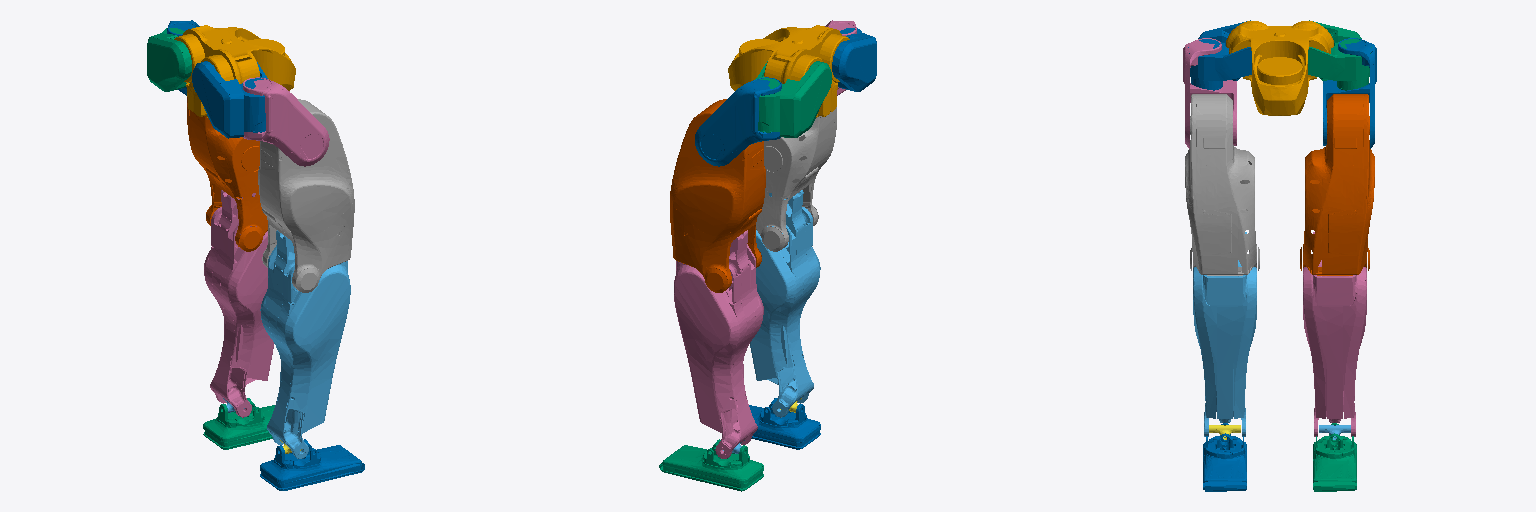
robot.urdf — phantom:
<?xml version = "1.0" ?>
<robot name="phantom">

    <!-- SPINE JOINTS -->
    <joint name="SpineYaw" type="revolute">
        <origin rpy="0 0 0" xyz="0.0 0 0.018"/> <!-- check with CAD -->
        <axis xyz="0 0 1"/>
        <parent link="Pelvis"/>
        <child link="Torso"/>
        <limit effort="150" lower="-0.5235987756" upper="0.5235987756" velocity="9.0"/>
        <dynamics damping="0.05" friction="0.0"/>
    </joint>

    <!-- LEFT LEG JOINTS -->
    <joint name="LeftHipRoll" type="revolute">
        <origin rpy="0 0 0" xyz="-0.162	0.0595	-0.015"/>
        <axis xyz="1 0 0"/>
        <parent link="Pelvis"/>
        <child link="LeftHipRollLink"/>
        <limit effort="150" lower="-0.3490658504 " upper="0.872664626" velocity="9"/>
        <dynamics damping="0.05" friction="0.0"/>
    </joint>
    <joint name="LeftHipYaw" type="revolute">
        <origin rpy="0 0 0" xyz="0.06	0.1	-0.08"/>
        <axis xyz="0 0 1"/>
        <parent link="LeftHipRollLink"/>
        <child link="LeftHipYawLink"/>
        <limit effort="60" lower="-0.3490658504" upper="1.0472" velocity="11"/>
        <dynamics damping="0.05" friction="0.0"/>
    </joint>
    <joint name="LeftHipPitch" type="revolute">
        <origin rpy="0 0 0" xyz="0.1045	-0.0573	-0.0525"/>
        <axis xyz="0 1 0"/>
        <parent link="LeftHipYawLink"/>
        <child link="LEFT_THIGH"/>
        <limit effort="200" lower="-2.61799" upper="0.785398" velocity="8"/>
        <dynamics damping="0.05" friction="0.0"/>
    </joint>
    <joint name="LeftKneePitch" type="revolute">
        <origin rpy="0 0 0" xyz="0	0.018	-0.32"/>
        <axis xyz="0 1 0"/>
        <parent link="LEFT_THIGH"/>
        <child link="LEFT_SHIN"/>
        <limit effort="200" lower="0" upper="2.445206282" velocity="8"/>
        <dynamics damping="0.05" friction="0.0"/>
    </joint>
    <joint name="LeftAnklePitch" type="revolute">
        <origin rpy="0 0 0" xyz="0	0	-0.41"/>
        <axis xyz="0 1 0"/>
        <parent link="LEFT_SHIN"/>
        <child link="LeftAnklePitchLink"/>
        <limit effort="180" lower="-1.0472" upper="0.523599" velocity="8"/>
        <dynamics damping="0.05" friction="0.0"/>
    </joint>
    <joint name="LeftAnkleRoll" type="revolute">
        <origin rpy="0 0 0" xyz="0	0	-0.012"/>
        <axis xyz="1 0 0"/>
        <parent link="LeftAnklePitchLink"/>
        <child link="LeftFoot"/>
        <limit effort="90" lower="-0.436332" upper="0.436332" velocity="8"/>
        <dynamics damping="0.05" friction="0.0"/>
    </joint>

    <!-- RIGHT LEG JOINTS -->
    <joint name="RightHipRoll" type="revolute">
        <origin rpy="0 0 0" xyz="-0.162	-0.0595	-0.015"/>
        <axis xyz="1 0 0"/>
        <parent link="Pelvis"/>
        <child link="RightHipRollLink"/>
        <limit effort="150" lower="-0.872664626" upper="0.3490658504" velocity="9"/>
        <dynamics damping="0.05" friction="0.0"/>
    </joint>
    <joint name="RightHipYaw" type="revolute">
        <origin rpy="0 0 0" xyz="0.06	-0.1	-0.08"/>
        <axis xyz="0 0 1"/>
        <parent link="RightHipRollLink"/>
        <child link="RightHipYawLink"/>
        <limit effort="60" lower="-1.0472" upper="0.3490658504" velocity="11"/>
        <dynamics damping="0.05" friction="0.0"/>
    </joint>
    <joint name="RightHipPitch" type="revolute">
        <origin rpy="0 0 0" xyz="0.1045	0.0573	-0.0525"/>
        <axis xyz="0 1 0"/>
        <parent link="RightHipYawLink"/>
        <child link="RIGHT_THIGH"/>
        <limit effort="200" lower="-2.61799" upper="0.785398" velocity="8"/>
        <dynamics damping="0.05" friction="0.0"/>
    </joint>
    <joint name="RightKneePitch" type="revolute">
        <origin rpy="0 0 0" xyz="0	-0.018	-0.32"/>
        <axis xyz="0 1 0"/>
        <parent link="RIGHT_THIGH"/>
        <child link="RIGHT_SHIN"/>
        <limit effort="200" lower="0" upper="2.445206282" velocity="8"/>
        <dynamics damping="0.05" friction="0.0"/>
    </joint>
    <joint name="RightAnklePitch" type="revolute">
        <origin rpy="0 0 0" xyz="0	0	-0.41"/>
        <axis xyz="0 1 0"/>
        <parent link="RIGHT_SHIN"/>
        <child link="RightAnklePitchLink"/>
        <limit effort="180" lower="-1.0472" upper="0.523599" velocity="8"/>
        <dynamics damping="0.05" friction="0.0"/>
    </joint>
    <joint name="RightAnkleRoll" type="revolute">
        <origin rpy="0 0 0" xyz="0	0	-0.012"/>
        <axis xyz="1 0 0"/>
        <parent link="RightAnklePitchLink"/>
        <child link="RightFoot"/>
        <limit effort="90" lower="-0.436332" upper="0.436332" velocity="8"/>
        <dynamics damping="0.05" friction="0.0"/>
    </joint>


    <!-- LINKS -->
    <link name="Pelvis">
        <inertial>
            <mass value="9.50083635"/>
            <origin rpy="0 0 0" xyz="-0.08354287 0.00005291 -0.03484828"/>
            <inertia ixx="0.03428688" ixy="0.00001151" ixz="0.00015935" iyy="0.05178848" iyz="0.00004514" izz="0.06001929"/>
        </inertial>
        <visual>
            <geometry>
                <mesh filename="package://phantom_description/meshes/legs/Pelvis.obj"/>
            </geometry>
            <origin rpy="0.0 0.0 0.0" xyz="0.0 0.0 0.0"/>
        </visual>
    </link>
    <!-- pelvis_stim_imu -->
    <joint name="PelvisIMUFixedJoint" type="fixed">
        <parent link="Pelvis"/>
        <child link="PelvisIMULink"/>
        <origin xyz="-0.08687724 0.01225028 -0.08051472" rpy="0.0 0.0 1.570796"/>
    </joint>

    <link name="PelvisIMULink">
        <inertial>
            <mass value="0.0"/>
            <origin xyz="0 0 0" rpy="0 0 0"/>
            <inertia ixx="0.0" ixy="0.0" ixz="0.0" iyy="0.0" iyz="0.0" izz="0.0"/>
        </inertial>
    </link>

    <gazebo reference="PelvisIMULink">
        <sensor name="PelvisIMU" type="imu">
            <always_on>1</always_on>
            <update_rate>1000.0</update_rate>
            <imu>
                <noise>
                    <type>gaussian</type>
                    <rate>
                        <mean>0.0</mean>
                        <stddev>2e-4</stddev>
                        <bias_mean>0.0000075</bias_mean>
                        <bias_stddev>0.0000008</bias_stddev>
                    </rate>
                    <accel>
                        <mean>0.0</mean>
                        <stddev>1.7e-2</stddev>
                        <bias_mean>0.1</bias_mean>
                        <bias_stddev>0.001</bias_stddev>
                    </accel>
                </noise>
            </imu>
        </sensor>
    </gazebo>
    <!-- end pelvis imu -->

    <!-- LEFT LEG LINKS -->
    <link name="LeftHipRollLink">
        <inertial>
            <mass value="2.32977961"/>
            <origin rpy="0 0 0" xyz="0.04350911	0.08708606 -0.03525761"/>
            <inertia ixx="0.00467452" ixy="-0.00058626" ixz="0.00013124" iyy="0.00516613" iyz="0.00048141" izz="0.00553124"/>
        </inertial>
        <visual>
            <geometry>
                <mesh filename="package://phantom_description/meshes/legs/LeftHipRollLink.obj"/>
            </geometry>
            <origin rpy="0.0 0.0 0.0" xyz="0.0 0.0 0.0"/>
        </visual>
    </link>

    <!-- LeftHipRollIMU-->
	<link name="LeftHipRollIMULink">
		<inertial>
			<mass value="0"/>
			<origin rpy="0 0 0" xyz="0 0 0"/>
			<inertia ixx="0.0" ixy="0.0" ixz="0.0" iyy="0.0" iyz="0.0" izz="0.0"/>
		</inertial>
	</link>
	<joint name="LeftHipRollIMUJoint" type="fixed">
		<origin rpy="-1.570796 0 1.570796" xyz="-0.01922309 0.10145013 -0.01488788"/>
		<axis xyz="0 0 1"/>
		<parent link="LeftHipRollLink"/>
		<child link="LeftHipRollIMULink"/>
	</joint>
	<gazebo reference="LeftHipRollIMUJoint">
		<sensor name="LeftHipRollIMU" type="imu">
			<always_on>true</always_on>
			<imu>
				<noise>
					<type>gaussian</type>
					<rate>
						<mean>0</mean>
						<stddev>0.0002</stddev>
						<bias_mean>7.5e-06</bias_mean>
						<bias_stddev>8e-07</bias_stddev>
					</rate>
					<accel>
						<mean>0</mean>
						<stddev>0.017</stddev>
						<bias_mean>0.1</bias_mean>
						<bias_stddev>0.001</bias_stddev>
					</accel>
				</noise>
			</imu>
		</sensor>
	</gazebo>


    <link name="LeftHipYawLink">
        <inertial>
            <mass value="0.77281362"/>
            <origin rpy="0 0 0" xyz="0.04549595	-0.00525571	-0.00937454"/>
            <inertia ixx="0.00317639" ixy="0.00005807" ixz="0.00080598" iyy="0.00345182" iyz="0.00047441" izz="0.00313245"/>
        </inertial>
        <visual>
            <geometry>
                <mesh filename="package://phantom_description/meshes/legs/LeftHipYawLink.obj"/>
            </geometry>
            <origin rpy="0.0 0.0 0.0" xyz="0 0 0"/>
        </visual>
    </link>
    <link name="LEFT_THIGH">
        <inertial>
            <mass value="7.75"/><!-- CAD Mass 6.31087157 (Hacked April 1 2025 to match IRL Scale of whole robot) -->
            <origin rpy="0 0 0" xyz="0.01417302	0.03268781	-0.10548314"/>
            <inertia ixx="0.09264028" ixy="0.00038532" ixz="0.00916409" iyy="0.09733033" iyz="-0.0043516" izz="0.02803877"/>
        </inertial>
        <visual>
            <geometry>
                <mesh filename="package://phantom_description/meshes/legs/LeftThigh.obj"/>
            </geometry>
            <origin rpy="0.0 0.0 0.0" xyz="0 0 0"/>
        </visual>
    </link>
    <link name="LEFT_SHIN">
        <inertial>
            <mass value="5.5"/><!-- CAD Mass 6.31087157 (Hacked April 1 2025 to match IRL Scale of whole robot) -->
            <origin rpy="0 0 0" xyz="0.03807965	-0.00108105	-0.12410027"/>
            <inertia ixx="0.08823148" ixy="-0.00054706" ixz="-0.00634132" iyy="0.09163264" iyz="0.00002714" izz="0.01569601"/>
        </inertial>
        <visual>
            <geometry>
                <mesh filename="package://phantom_description/meshes/legs/LeftShin.obj"/>
            </geometry>
            <origin rpy="0.0 0.0 0.0" xyz="0 0 0"/>
        </visual>
    </link>

    <!-- LeftThighIMU-->
	<link name="LeftThighIMULink">
		<inertial>
			<mass value="0"/>
			<origin rpy="0 0 0" xyz="0 0 0"/>
			<inertia ixx="0.0" ixy="0.0" ixz="0.0" iyy="0.0" iyz="0.0" izz="0.0"/>
		</inertial>
	</link>
	<joint name="LeftThighIMUJoint" type="fixed">
		<origin rpy="1.6947717585 0 1.570796" xyz="0.10004 0.03746 -0.21194"/>
		<axis xyz="0 0 1"/>
		<parent link="LEFT_THIGH"/>
		<child link="LeftThighIMULink"/>
	</joint>
	<gazebo reference="LeftThighIMULink">
		<sensor name="LeftThighIMU" type="imu">
			<always_on>true</always_on>
			<imu>
				<noise>
					<type>gaussian</type>
					<rate>
						<mean>0</mean>
						<stddev>0.0002</stddev>
						<bias_mean>7.5e-06</bias_mean>
						<bias_stddev>8e-07</bias_stddev>
					</rate>
					<accel>
						<mean>0</mean>
						<stddev>0.017</stddev>
						<bias_mean>0.1</bias_mean>
						<bias_stddev>0.001</bias_stddev>
					</accel>
				</noise>
			</imu>
		</sensor>
	</gazebo>

    <!-- LeftShinIMU-->
	<link name="LeftShinIMULink">
		<inertial>
			<mass value="0"/>
			<origin rpy="0 0 0" xyz="0 0 0"/>
			<inertia ixx="0.0" ixy="0.0" ixz="0.0" iyy="0.0" iyz="0.0" izz="0.0"/>
		</inertial>
	</link>
	<joint name="LeftShinIMUJoint" type="fixed">
		<origin rpy="1.403695170631842 0 -1.570796" xyz="0.05655120 0.00084826 -0.15664831"/>
		<axis xyz="0 0 1"/>
		<parent link="LEFT_SHIN"/>
		<child link="LeftShinIMULink"/>
	</joint>
	<gazebo reference="LeftShinIMULink">
		<sensor name="LeftShinIMU" type="imu">
			<always_on>true</always_on>
			<imu>
				<noise>
					<type>gaussian</type>
					<rate>
						<mean>0</mean>
						<stddev>0.0002</stddev>
						<bias_mean>7.5e-06</bias_mean>
						<bias_stddev>8e-07</bias_stddev>
					</rate>
					<accel>
						<mean>0</mean>
						<stddev>0.017</stddev>
						<bias_mean>0.1</bias_mean>
						<bias_stddev>0.001</bias_stddev>
					</accel>
				</noise>
			</imu>
		</sensor>
	</gazebo>


    <link name="LeftAnklePitchLink">
        <inertial>
            <mass value="0.05045632"/>
            <origin rpy="0 0 0" xyz="2.94E-07	2.22E-07	-0.00462997"/>
            <inertia ixx="0.00001733" ixy="2.12E-10" ixz="-1.26E-10" iyy="0.00000714" iyz="-2.02E-11" izz="0.00001851"/>
        </inertial>
        <visual>
            <geometry>
                <mesh filename="package://phantom_description/meshes/legs/AnklePitchLink.obj"/>
            </geometry>
            <origin rpy="0.0 0.0 0.0" xyz="0 0 0"/>
        </visual>
    </link>
    <link name="LeftFoot">
        <inertial>
            <mass value="1.28288609"/>
            <origin rpy="0 0 0" xyz="0.03793372	-0.00000219	-0.0443663"/>
            <inertia ixx="0.00131328" ixy="0.00001057" ixz="0.00036242" iyy="0.00385286" iyz="-0.0000069" izz="0.00406301"/>
        </inertial>
        <visual>
            <geometry>
                <mesh filename="package://phantom_description/meshes/legs/Foot.obj"/>
            </geometry>
            <origin rpy="0.0 0.0 0.0" xyz="0 0 0"/>
        </visual>
    </link>

    <!-- LeftFootIMU-->
	<link name="LeftFootIMULink">
		<inertial>
			<mass value="0"/>
			<origin rpy="0 0 0" xyz="0 0 0"/>
			<inertia ixx="0.0" ixy="0.0" ixz="0.0" iyy="0.0" iyz="0.0" izz="0.0"/>
		</inertial>
	</link>
	<joint name="LeftFootIMUJoint" type="fixed">
		<origin rpy="0 0 1.570796" xyz="-0.03575526 0.01180178 -0.04979705"/>
		<axis xyz="0 0 1"/>
		<parent link="LeftFoot"/>
		<child link="LeftFootIMULink"/>
	</joint>
	<gazebo reference="LeftFootIMULink">
		<sensor name="LeftFootIMU" type="imu">
			<always_on>true</always_on>
			<imu>
				<noise>
					<type>gaussian</type>
					<rate>
						<mean>0</mean>
						<stddev>0.0002</stddev>
						<bias_mean>7.5e-06</bias_mean>
						<bias_stddev>8e-07</bias_stddev>
					</rate>
					<accel>
						<mean>0</mean>
						<stddev>0.017</stddev>
						<bias_mean>0.1</bias_mean>
						<bias_stddev>0.001</bias_stddev>
					</accel>
				</noise>
			</imu>
		</sensor>
	</gazebo>


    <!-- RIGHT LEG LINKS -->
    <link name="RightHipRollLink">
        <inertial>
            <mass value="2.32977248"/>
            <origin rpy="0 0 0" xyz="0.04351957	-0.08688935	-0.03525357"/>
            <inertia ixx="0.00467576" ixy="0.00061004" ixz="0.00013038" iyy="0.00516385" iyz="-0.00047381" izz="0.00552901"/>
        </inertial>
        <visual>
            <geometry>
                <mesh filename="package://phantom_description/meshes/legs/RightHipRollLink.obj"/>
            </geometry>
            <origin rpy="0.0 0.0 0.0" xyz="0.0 0.0 0.0"/>
        </visual>
    </link>

    <!-- RightHipRollIMU-->
	<link name="RightHipRollIMULink">
		<inertial>
			<mass value="0"/>
			<origin rpy="0 0 0" xyz="0 0 0"/>
			<inertia ixx="0.0" ixy="0.0" ixz="0.0" iyy="0.0" iyz="0.0" izz="0.0"/>
		</inertial>
	</link>
	<joint name="RightHipRollIMUJoint" type="fixed">
		<origin rpy="-1.570796 0 1.570796" xyz="-0.01922309 -0.07694987 -0.01488788"/>
		<axis xyz="0 0 1"/>
		<parent link="RightHipRollLink"/>
		<child link="RightHipRollIMULink"/>
	</joint>
	<gazebo reference="RightHipRollIMUJoint">
		<sensor name="RightHipRollIMU" type="imu">
			<always_on>true</always_on>
			<imu>
				<noise>
					<type>gaussian</type>
					<rate>
						<mean>0</mean>
						<stddev>0.0002</stddev>
						<bias_mean>7.5e-06</bias_mean>
						<bias_stddev>8e-07</bias_stddev>
					</rate>
					<accel>
						<mean>0</mean>
						<stddev>0.017</stddev>
						<bias_mean>0.1</bias_mean>
						<bias_stddev>0.001</bias_stddev>
					</accel>
				</noise>
			</imu>
		</sensor>
	</gazebo>

    <link name="RightHipYawLink">
        <inertial>
            <mass value="0.77281055"/>
            <origin rpy="0 0 0" xyz="0.04549274	0.00525784	-0.00937505"/>
            <inertia ixx="0.00317639" ixy="-0.00005765" ixz="0.00080587" iyy="0.00345166" iyz="-0.00047466" izz="0.00313223"/>
        </inertial>
        <visual>
            <geometry>
                <mesh filename="package://phantom_description/meshes/legs/RightHipYawLink.obj"/>
            </geometry>
            <origin rpy="0.0 0.0 0.0" xyz="0 0 0"/>
        </visual>
    </link>
    <link name="RIGHT_THIGH">
        <inertial>
            <mass value="7.75"/><!-- CAD Mass 6.31087157 (Hacked April 1 2025 to match IRL Scale of whole robot) -->
            <origin rpy="0 0 0" xyz="0.01411846	-0.03282392	-0.10542795"/>
            <inertia ixx="0.09273162" ixy="-0.00026689" ixz="0.00921343" iyy="0.09738701" iyz="0.00422485" izz="0.02802165"/>
        </inertial>
        <visual>
            <geometry>
                <mesh filename="package://phantom_description/meshes/legs/RightThigh.obj"/>
            </geometry>
            <origin rpy="0.0 0.0 0.0" xyz="0 0 0"/>
        </visual>
    </link>

    <!-- RightThighIMU-->
	<link name="RightThighIMULink">
		<inertial>
			<mass value="0"/>
			<origin rpy="0 0 0" xyz="0 0 0"/>
			<inertia ixx="0.0" ixy="0.0" ixz="0.0" iyy="0.0" iyz="0.0" izz="0.0"/>
		</inertial>
	</link>
	<joint name="RightThighIMUJoint" type="fixed">
		<origin rpy="1.6947717585 0 1.570796" xyz="0.10003618 -0.033541826 -0.21194191"/>
		<axis xyz="0 0 1"/>
		<parent link="RIGHT_THIGH"/>
		<child link="RightThighIMULink"/>
	</joint>
	<gazebo reference="RightThighIMULink">
		<sensor name="RightThighIMU" type="imu">
			<always_on>true</always_on>
			<imu>
				<noise>
					<type>gaussian</type>
					<rate>
						<mean>0</mean>
						<stddev>0.0002</stddev>
						<bias_mean>7.5e-06</bias_mean>
						<bias_stddev>8e-07</bias_stddev>
					</rate>
					<accel>
						<mean>0</mean>
						<stddev>0.017</stddev>
						<bias_mean>0.1</bias_mean>
						<bias_stddev>0.001</bias_stddev>
					</accel>
				</noise>
			</imu>
		</sensor>
	</gazebo>

    <link name="RIGHT_SHIN">
        <inertial>
            <mass value="5.5"/><!-- CAD Mass 6.31087157 (Hacked April 1 2025 to match IRL Scale of whole robot) -->
            <origin rpy="0 0 0" xyz="0.03807648	0.00113375	-0.12408765"/>
            <inertia ixx="0.08705693" ixy="0.00057277" ixz="-0.00674654" iyy="0.090231" iyz="0.00028332" izz="0.01554032"/>
        </inertial>
        <visual>
            <geometry>
                <mesh filename="package://phantom_description/meshes/legs/RightShin.obj"/>
            </geometry>
            <origin rpy="0.0 0.0 0.0" xyz="0 0 0"/>
        </visual>
    </link>

    <!-- RightShinIMU-->
	<link name="RightShinIMULink">
		<inertial>
			<mass value="0"/>
			<origin rpy="0 0 0" xyz="0 0 0"/>
			<inertia ixx="0.0" ixy="0.0" ixz="0.0" iyy="0.0" iyz="0.0" izz="0.0"/>
		</inertial>
	</link>
	<joint name="RightShinIMUJoint" type="fixed">
		<origin rpy="1.403695170631842 0 -1.570796" xyz="0.05673025 -0.00875818 -0.15674961"/>
		<axis xyz="0 0 1"/>
		<parent link="RIGHT_SHIN"/>
		<child link="RightShinIMULink"/>
	</joint>
	<gazebo reference="RightShinIMULink">
		<sensor name="RightShinIMU" type="imu">
			<always_on>true</always_on>
			<imu>
				<noise>
					<type>gaussian</type>
					<rate>
						<mean>0</mean>
						<stddev>0.0002</stddev>
						<bias_mean>7.5e-06</bias_mean>
						<bias_stddev>8e-07</bias_stddev>
					</rate>
					<accel>
						<mean>0</mean>
						<stddev>0.017</stddev>
						<bias_mean>0.1</bias_mean>
						<bias_stddev>0.001</bias_stddev>
					</accel>
				</noise>
			</imu>
		</sensor>
	</gazebo>


    <link name="RightAnklePitchLink">
        <inertial>
            <mass value="0.05045632"/>
            <origin rpy="0 0 0" xyz="2.94E-07	2.22E-07	-0.00462997"/>
            <inertia ixx="0.00001733" ixy="2.12E-10" ixz="-1.26E-10" iyy="0.00000714" iyz="-2.02E-11" izz="0.00001851"/>
        </inertial>
        <visual>
            <geometry>
                <mesh filename="package://phantom_description/meshes/legs/AnklePitchLink.obj"/>
            </geometry>
            <origin rpy="0.0 0.0 0.0" xyz="0 0 0"/>
        </visual>
    </link>
    <link name="RightFoot">
        <inertial>
            <mass value="1.28288609"/>
            <origin rpy="0 0 0" xyz="0.03793372	-0.00000219	-0.0443663"/>
            <inertia ixx="0.00131328" ixy="0.00001057" ixz="0.00036242" iyy="0.00385286" iyz="-0.0000069" izz="0.00406301"/>
        </inertial>
        <visual>
            <geometry>
                <mesh filename="package://phantom_description/meshes/legs/Foot.obj"/>
            </geometry>
            <origin rpy="0.0 0.0 0.0" xyz="0 0 0"/>
        </visual>
    </link>

    <!-- RightFootIMU-->
	<link name="RightFootIMULink">
		<inertial>
			<mass value="0"/>
			<origin rpy="0 0 0" xyz="0 0 0"/>
			<inertia ixx="0.0" ixy="0.0" ixz="0.0" iyy="0.0" iyz="0.0" izz="0.0"/>
		</inertial>
	</link>
	<joint name="RightFootIMUJoint" type="fixed">
		<origin rpy="0 0 1.570796" xyz="-0.03575526 0.01180178 -0.04979705"/>
		<axis xyz="0 0 1"/>
		<parent link="RightFoot"/>
		<child link="RightFootIMULink"/>
	</joint>
	<gazebo reference="RightFootIMULink">
		<sensor name="RightFootIMU" type="imu">
			<always_on>true</always_on>
			<imu>
				<noise>
					<type>gaussian</type>
					<rate>
						<mean>0</mean>
						<stddev>0.0002</stddev>
						<bias_mean>7.5e-06</bias_mean>
						<bias_stddev>8e-07</bias_stddev>
					</rate>
					<accel>
						<mean>0</mean>
						<stddev>0.017</stddev>
						<bias_mean>0.1</bias_mean>
						<bias_stddev>0.001</bias_stddev>
					</accel>
				</noise>
			</imu>
		</sensor>
	</gazebo>


    <!-- SPINE LINKS -->
    <link name="Torso">
        <inertial>
            <mass value="4.208"/> <!-- This probably needs to be updated  -->
            <origin rpy="0 0 0" xyz="-0.034 0.0 0.297"/>
            <inertia ixx="0.077" ixy="9.64E-06" ixz="0.008" iyy="0.068" iyz="7.24E-06" izz="0.033"/>
        </inertial>
        <visual>
            <geometry>
                <mesh filename="package://phantom_description/meshes/Torso.obj"/>
            </geometry>
            <origin rpy="0.0 0.0 0.0" xyz="0.0 0.0 0.0"/>
        </visual>
    </link>
</robot>

--- Render facts (derived) ---
The picture shows the robot from 3 angles, left to right: view 1: azimuth 30°, elevation 25°; view 2: azimuth 150°, elevation 25°; view 3: azimuth 270°, elevation 25°; orthographic projection.
Robot: phantom — 23 links, 22 joints (13 revolute, 9 fixed); root link Pelvis; default pose: every joint at zero.
Links seen in each view (by area): view 1: RIGHT_SHIN, RIGHT_THIGH, LEFT_SHIN, LEFT_THIGH, Pelvis, RightHipYawLink, RightHipRollLink, RightFoot, LeftHipRollLink, LeftFoot; view 2: LEFT_SHIN, LEFT_THIGH, RIGHT_SHIN, RIGHT_THIGH, Pelvis, LeftHipYawLink, LeftHipRollLink, LeftFoot, RightHipRollLink, RightFoot; view 3: LEFT_THIGH, RIGHT_THIGH, LEFT_SHIN, RIGHT_SHIN, Pelvis, LeftFoot, RightFoot, LeftHipRollLink, RightHipRollLink, LeftHipYawLink, RightHipYawLink.
Link boxes in pixels (x1=…): RIGHT_SHIN: x1=260, y1=230, x2=350, y2=458; RIGHT_THIGH: x1=258, y1=99, x2=354, y2=292; LEFT_SHIN: x1=204, y1=190, x2=273, y2=417; LEFT_THIGH: x1=187, y1=97, x2=267, y2=251; Pelvis: x1=174, y1=25, x2=295, y2=117; RightHipYawLink: x1=243, y1=77, x2=329, y2=166; RightHipRollLink: x1=192, y1=61, x2=267, y2=138; RightFoot: x1=260, y1=439, x2=364, y2=490; LeftHipRollLink: x1=147, y1=28, x2=191, y2=91; LeftFoot: x1=203, y1=398, x2=274, y2=449; LEFT_SHIN: x1=674, y1=230, x2=763, y2=458; LEFT_THIGH: x1=670, y1=99, x2=765, y2=292; RIGHT_SHIN: x1=750, y1=190, x2=820, y2=417; RIGHT_THIGH: x1=756, y1=107, x2=836, y2=251; Pelvis: x1=728, y1=25, x2=849, y2=117; LeftHipYawLink: x1=695, y1=77, x2=781, y2=166; LeftHipRollLink: x1=755, y1=61, x2=831, y2=137; LeftFoot: x1=659, y1=439, x2=763, y2=491; RightHipRollLink: x1=832, y1=28, x2=876, y2=91; RightFoot: x1=749, y1=398, x2=820, y2=449; LEFT_THIGH: x1=1300, y1=94, x2=1374, y2=275; RIGHT_THIGH: x1=1185, y1=94, x2=1259, y2=275; LEFT_SHIN: x1=1303, y1=232, x2=1366, y2=436; RIGHT_SHIN: x1=1193, y1=232, x2=1256, y2=436; Pelvis: x1=1226, y1=21, x2=1333, y2=115; LeftFoot: x1=1313, y1=423, x2=1356, y2=491; RightFoot: x1=1203, y1=423, x2=1246, y2=491; LeftHipRollLink: x1=1308, y1=20, x2=1371, y2=90; RightHipRollLink: x1=1188, y1=20, x2=1251, y2=90; LeftHipYawLink: x1=1323, y1=38, x2=1376, y2=148; RightHipYawLink: x1=1183, y1=38, x2=1236, y2=148.
Size in the robot's own frame: 0.346 by 0.424 by 1.01 metres.
13 mesh visuals loaded from 12 distinct referenced files (11 OBJ); not drawn: 1 (reference not matched to a file when rendering).